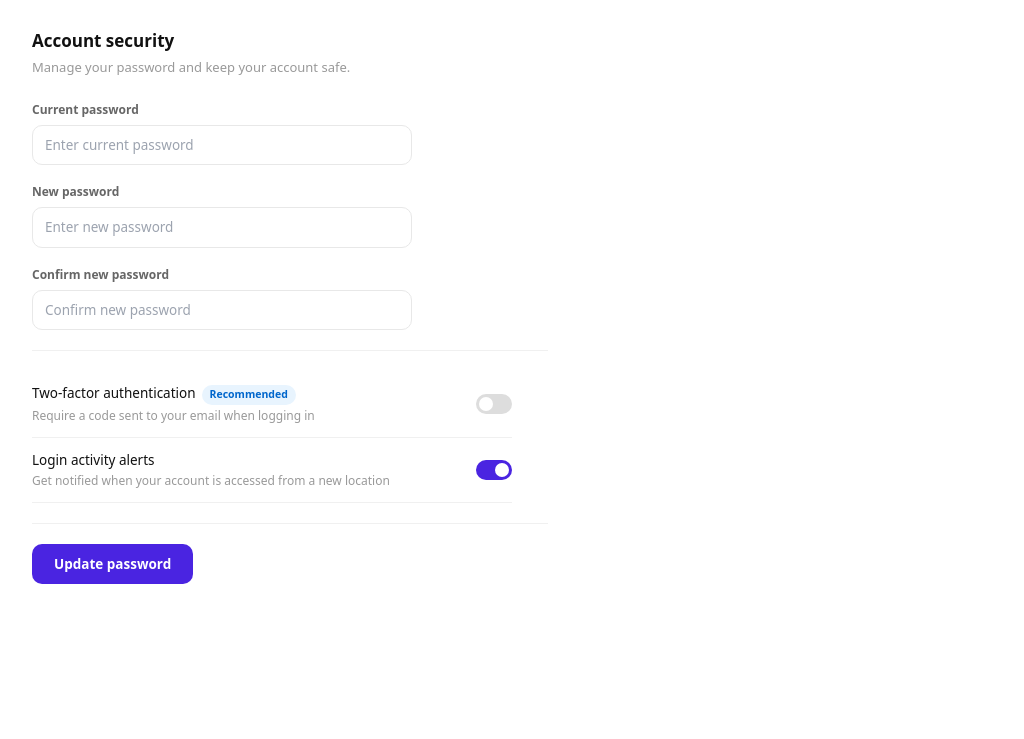
Test: SecuritySection › enabling two-factor authentication › blocks confirmation until a code is entered
Click the checkbox in the row of "Recommended".
click(494, 404)  # box x1=476 y1=394 x2=512 y2=414
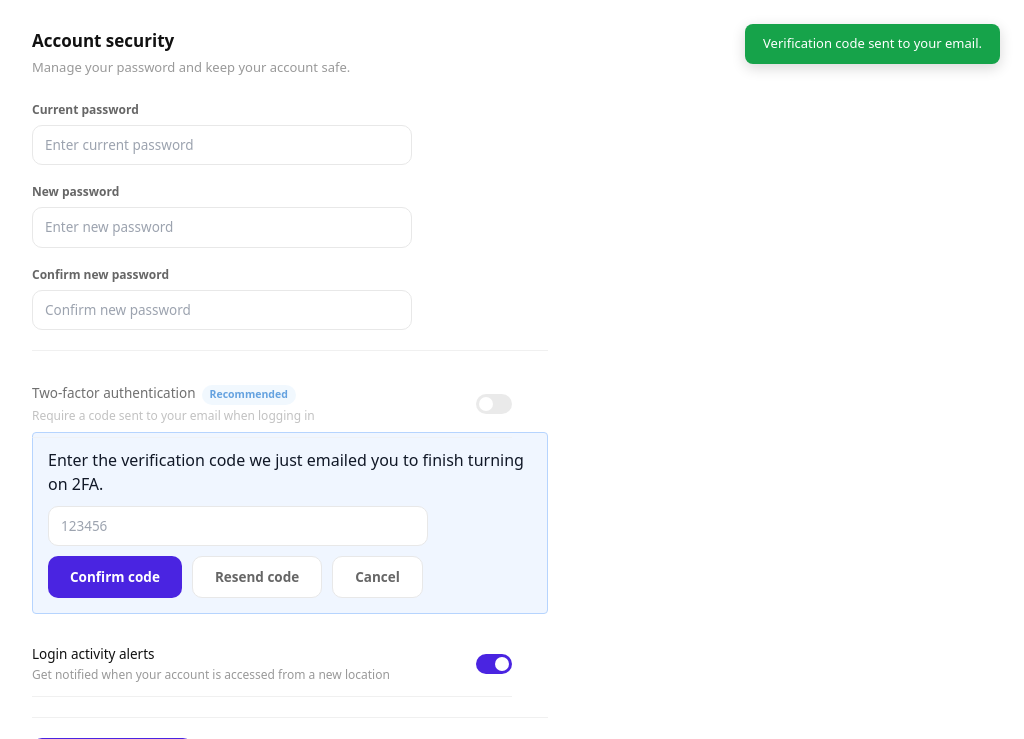
Expected: the text "Enter the verification code" is shown, x1=48 y1=448 x2=524 y2=494
Click the button "Confirm code".
click(115, 577)  # box x1=48 y1=556 x2=182 y2=598
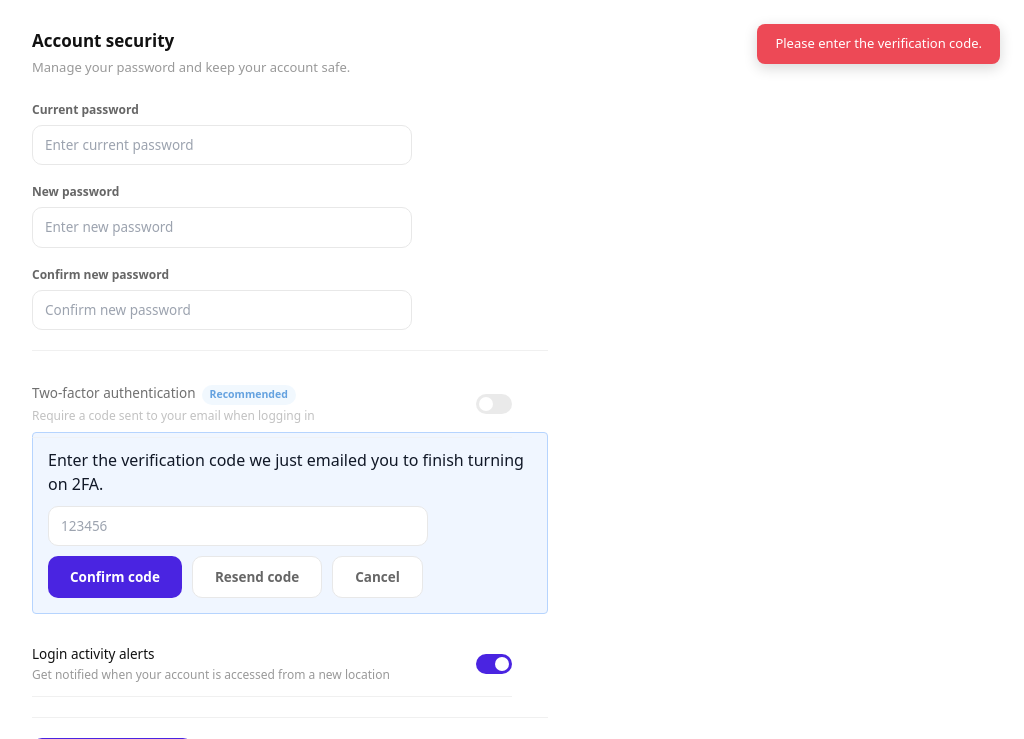
Expected: the text "Please enter the verification code." is shown, x1=757 y1=24 x2=1000 y2=64
